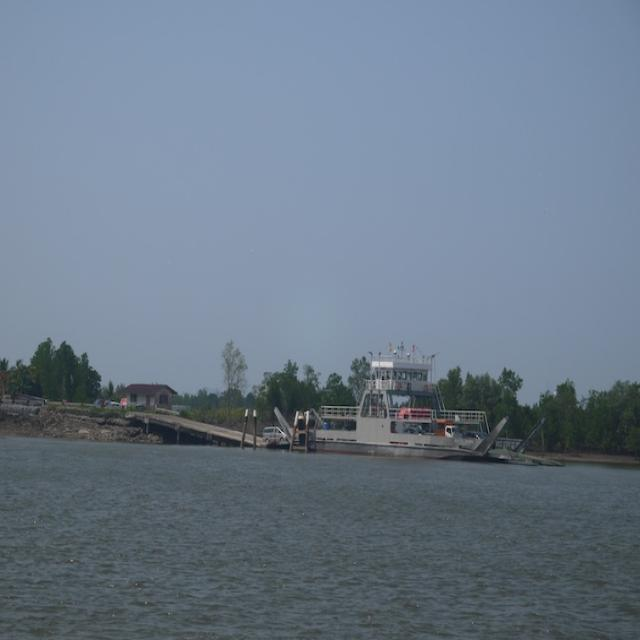passenger ship: (312, 348, 502, 460)
